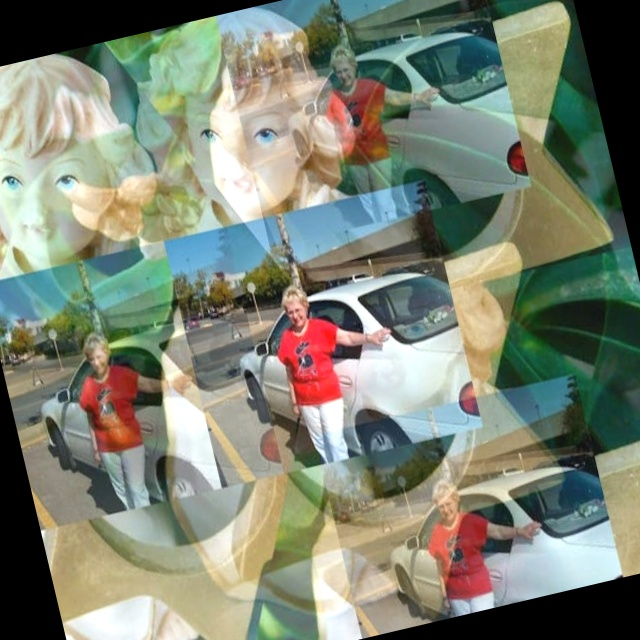algae_bloom: (304, 0, 621, 222), (491, 241, 640, 462)
floating_debris: (13, 13, 627, 627)
foam_scum: (0, 56, 178, 279), (304, 277, 470, 492), (189, 55, 339, 232), (162, 356, 252, 569), (456, 523, 623, 614), (312, 549, 388, 640), (65, 595, 206, 640)
oil_spill: (0, 368, 66, 640), (365, 576, 640, 640), (576, 0, 640, 269), (0, 0, 257, 65)
turbid_water: (0, 0, 640, 640)
